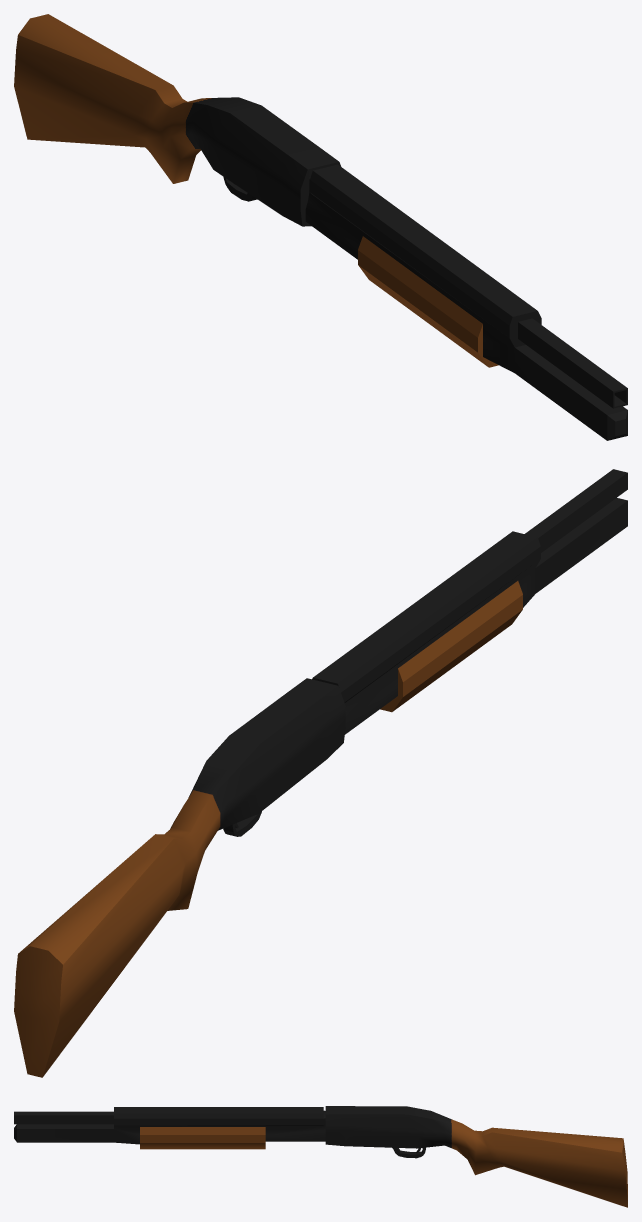
File: Shotgun.fbx
3 renders of one model, top to bottom at view 1: azimuth 30°, elevation 25°; view 2: azimuth 150°, elevation 25°; view 3: azimuth 270°, elevation 25°, orthographic. The views are drawn at different scales.
Visible parts, largest first — view 1: pCube1; view 2: pCube1; view 3: pCube1.
Part boxes in pixels (bbox=[...]): pCube1: bbox=[14, 14, 627, 440]; pCube1: bbox=[14, 469, 627, 1077]; pCube1: bbox=[14, 1106, 627, 1207].
Bounding box in the file's own units: 0.5873 × 2.27 × 13.19.
1 material, 1 textured.
